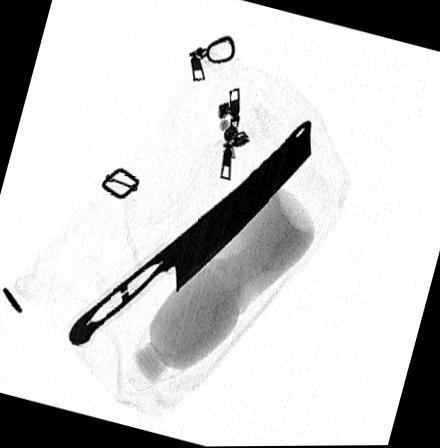Knife: (66, 119, 312, 346)
